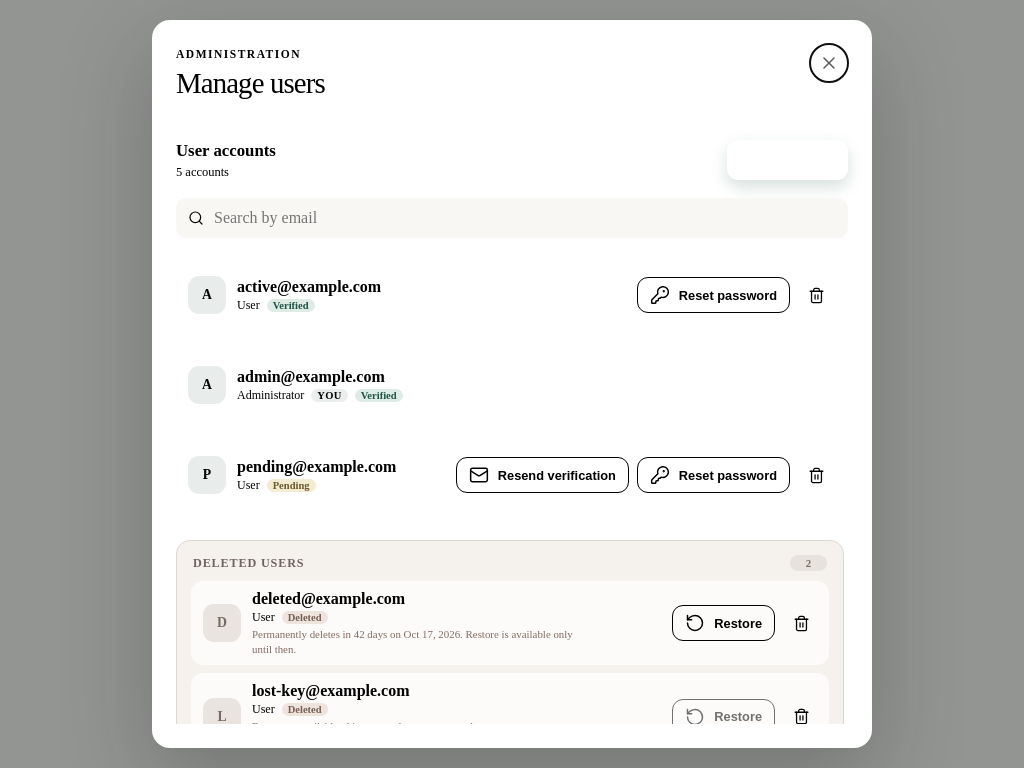
Test case: UserManagementDialog deleted users › restores an account, marks recovery pending, and reveals the temporary password
Check: the text "deleted@example.com" is shown, box [252,590,405,607]
Click the button "Restore" next to "Restore is available only until then.": [724, 623] box [672,605,775,641]
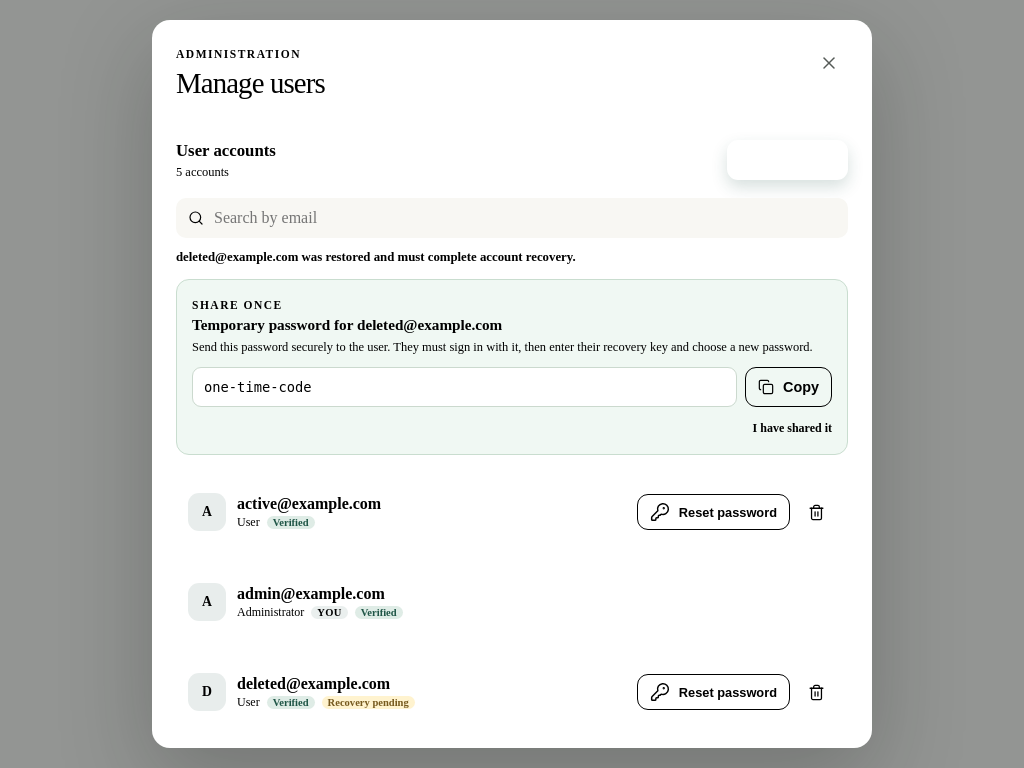
Check: the text "one-time-code" is shown, box [192,367,737,407]
Check: the button with aria-label "Copy temporary password" is shown, box [745,367,832,407]
Check: the text "Recovery pending" is shown, box [322,696,415,709]
